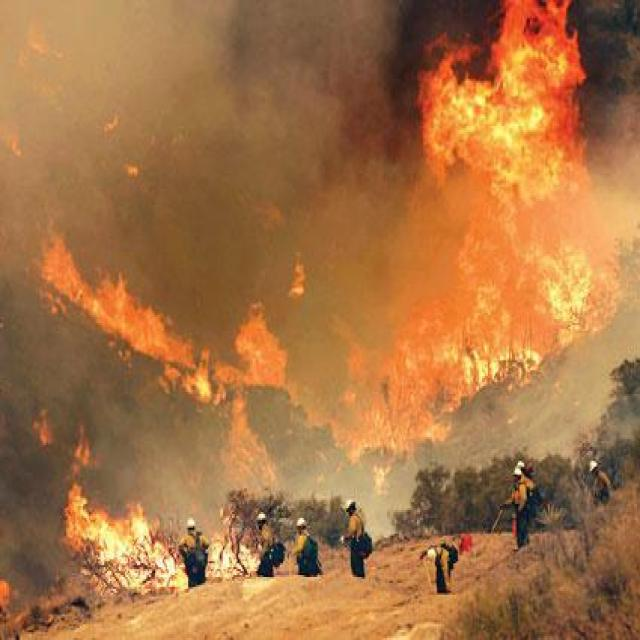fire: (371, 2, 629, 407), (36, 223, 286, 414), (58, 479, 190, 596)
